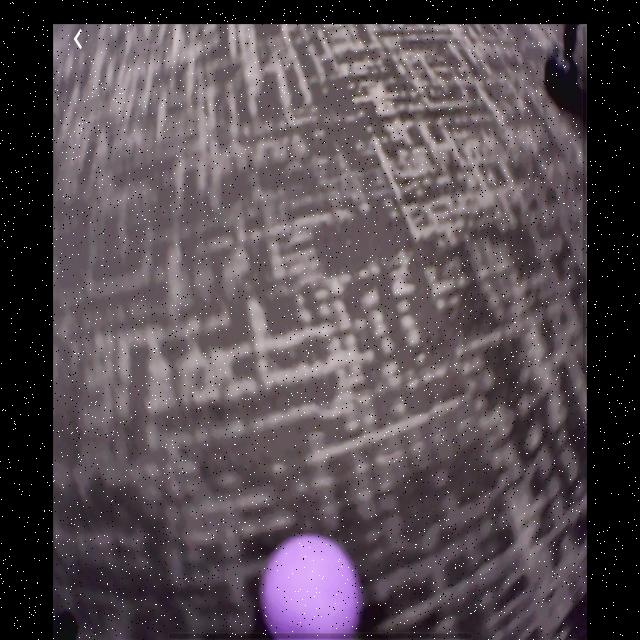ball: (265, 538, 361, 640)
